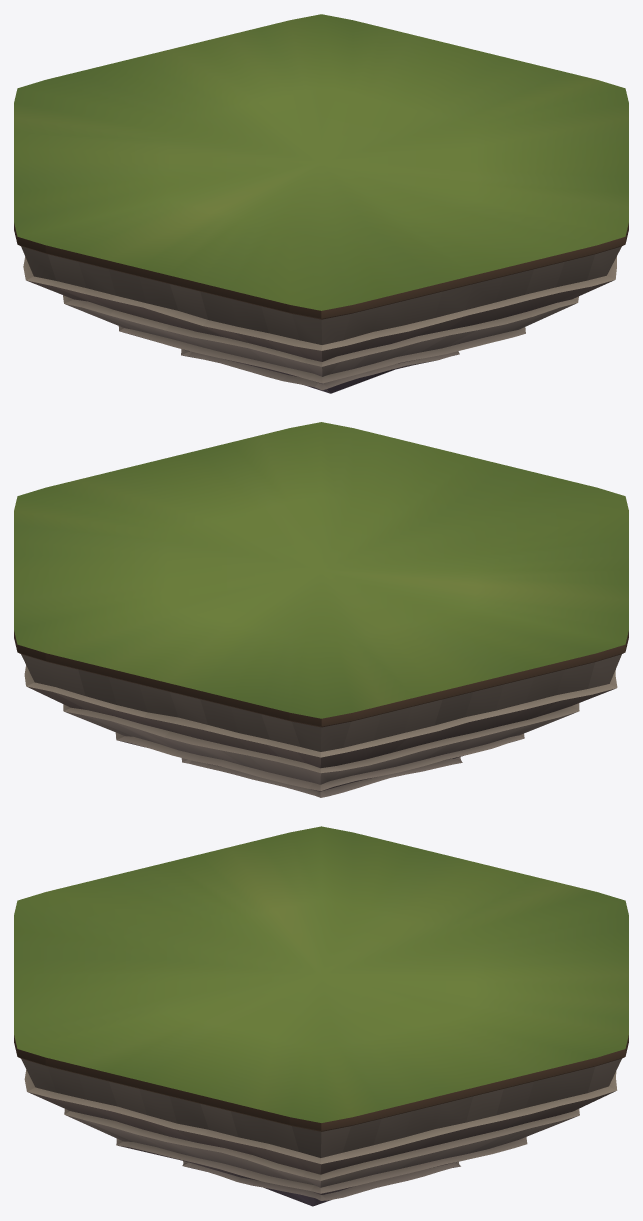
File: socle_hex_6.glb
The picture shows the model from 3 angles, top to bottom: view 1: azimuth 30°, elevation 25°; view 2: azimuth 150°, elevation 25°; view 3: azimuth 270°, elevation 25°; orthographic projection.
Parts seen in each view (by area): view 1: socle_hex_6; view 2: socle_hex_6; view 3: socle_hex_6.
Boxes of the visible parts, x1=… form: socle_hex_6: x1=14, y1=14, x2=628, y2=393; socle_hex_6: x1=14, y1=422, x2=628, y2=797; socle_hex_6: x1=14, y1=826, x2=628, y2=1206.
Bounding box in the file's own units: 24.42 × 8.8 × 21.39.
